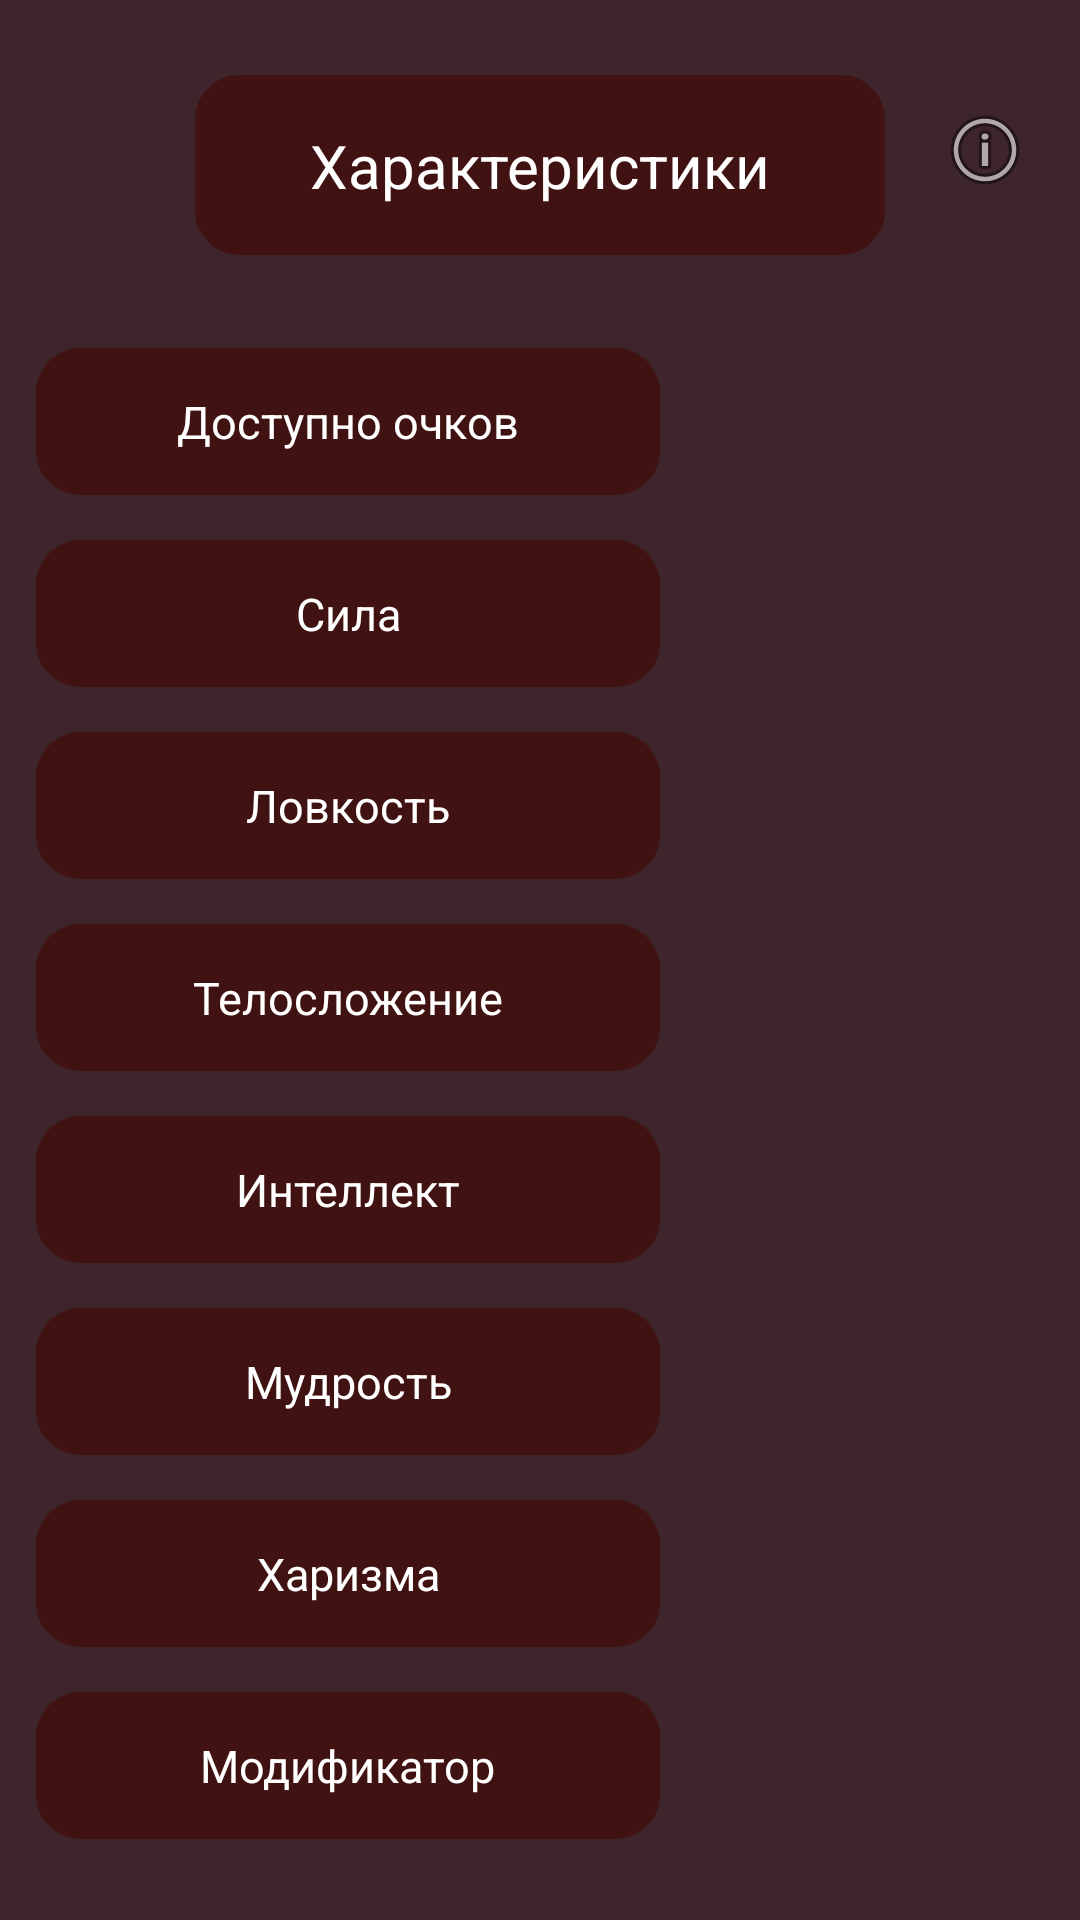

Icon click points for this 1080px x 1920px phone screenshot, format [x,y]:
info details: [985,150]
